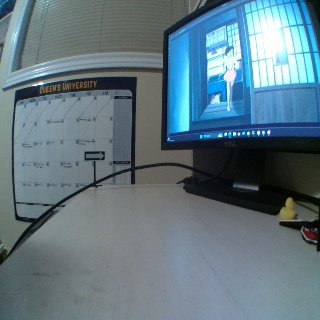sign_oneway_right: (83, 151, 104, 160)
